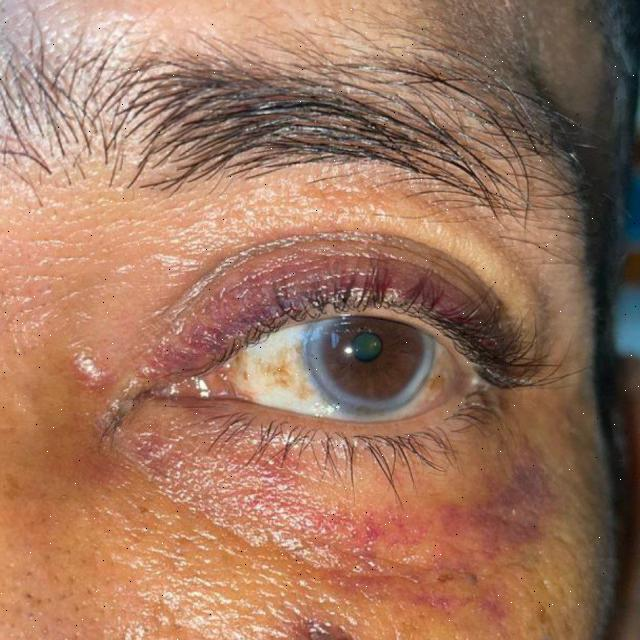Cataract: (308, 284, 436, 418)
